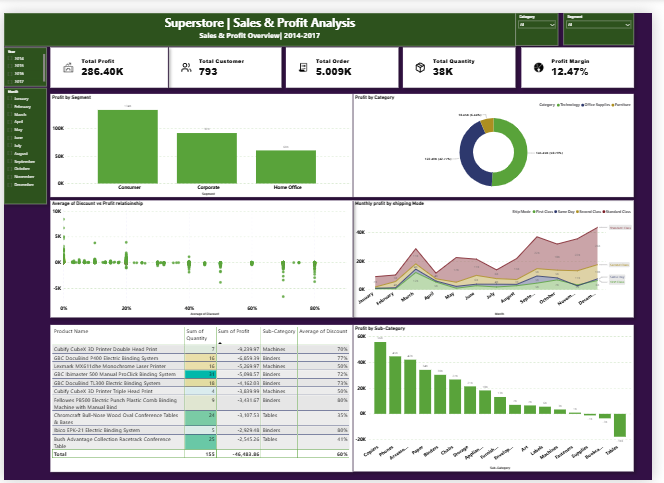

This screenshot's page, from the dashboard's own definition file:
{"tool":"powerbi","page":{"name":"Superstore Profitability Insights","canvas":[2400,1730],"ordinal":1},"visuals":[{"type":"textbox","box":[0,0,1895.3,123.3],"z":0},{"type":"slicer","fields":{"Values":["Sample - Superstore.Order Date.Variation.Date Hierarchy.Year"]},"box":[2.3,130.2,158.1,144.2],"z":1000},{"type":"slicer","fields":{"Values":["Sample - Superstore.Order Date.Variation.Date Hierarchy.Month"]},"box":[2.3,279.1,158.1,430.2],"z":2000},{"type":"columnChart","title":"Profit by Segment","fields":{"Category":["Sample - Superstore.Segment"],"Y":["Sum(Sample - Superstore.Profit)"]},"box":[170,297.7,1118.6,381.4],"z":3000},{"type":"slicer","fields":{"Values":["Sample - Superstore.Category"]},"box":[1895.3,2.3,158.1,120.9],"z":4000},{"type":"slicer","fields":{"Values":["Sample - Superstore.Segment"]},"box":[2072.1,2.3,260.5,118.6],"z":5000},{"type":"stackedAreaChart","title":"Monthly profit by shipping Mode","fields":{"Category":["Sample - Superstore.Order Date.Variation.Date Hierarchy.Month"],"Series":["Sample - Superstore.Ship Mode"],"Y":["Sum(Sample - Superstore.Profit)"]},"box":[1295.3,695.3,1037.2,432.6],"z":6000},{"type":"donutChart","title":"Profit by Category","fields":{"Category":["Sample - Superstore.Category"],"Y":["Sum(Sample - Superstore.Profit)"]},"box":[1295.3,297.7,1037.2,381.4],"z":7000},{"type":"tableEx","title":"Top 10 Product with Highest  Losses","fields":{"Values":["Sample - Superstore.Product Name","Sum(Sample - Superstore.Quantity)","Sample - Superstore.Profit","Sample - Superstore.Sub-Category","Avg(Sample - Superstore.Discount)"]},"box":[169.8,1153.5,1118.6,544.2],"z":8000},{"type":"cardVisual","fields":{"Data":["Count(Sample - Superstore.Customer ID)"]},"box":[611.6,130.2,416.3,148.8],"z":9000},{"type":"clusteredColumnChart","title":"Profit by Sub-Category","fields":{"Category":["Sample - Superstore.Sub-Category"],"Y":["Sum(Sample - Superstore.Profit)"]},"box":[1295.3,1153.5,1037.2,541.9],"z":10000},{"type":"scatterChart","title":"Average of Discount vs Profit relatioinship","fields":{"X":["Avg(Sample - Superstore.Discount)"],"Y":["Sum(Sample - Superstore.Profit)"],"Category":["Sample - Superstore.Profit"]},"box":[169.8,695.3,1118.6,432.6],"z":11000},{"type":"cardVisual","fields":{"Data":["Sample - Superstore.Profit Margin"]},"box":[1916.3,130.2,416.3,148.8],"z":12000},{"type":"cardVisual","fields":{"Data":["Sum(Sample - Superstore.Quantity)"]},"box":[1479.1,130.2,416.3,148.8],"z":13000},{"type":"cardVisual","fields":{"Data":["Count(Sample - Superstore.Order ID)"]},"box":[1044.2,130.2,416.3,148.8],"z":14000},{"type":"cardVisual","fields":{"Data":["Sum(Sample - Superstore.Profit)"]},"box":[170,130.2,434.9,148.8],"z":15000}]}

Visuals, with their boxes on the page's 2400x1730 design canvas (x1, y1, x2, y2). These are canvas units, not pixel positions in the 664x483 screenshot, which may show the page scaled, cropped or inside an application window:
textbox: detection(0, 0, 1895, 123)
slicer - Sample - Superstore.Order Date.Variation.Date Hierarchy.Year: detection(2, 130, 160, 274)
slicer - Sample - Superstore.Order Date.Variation.Date Hierarchy.Month: detection(2, 279, 160, 709)
"Profit by Segment" columnChart: detection(170, 298, 1289, 679)
slicer - Sample - Superstore.Category: detection(1895, 2, 2053, 123)
slicer - Sample - Superstore.Segment: detection(2072, 2, 2333, 121)
"Monthly profit by shipping Mode" stackedAreaChart: detection(1295, 695, 2332, 1128)
"Profit by Category" donutChart: detection(1295, 298, 2332, 679)
"Top 10 Product with Highest  Losses" tableEx: detection(170, 1154, 1288, 1698)
cardVisual - Count(Sample - Superstore.Customer ID): detection(612, 130, 1028, 279)
"Profit by Sub-Category" clusteredColumnChart: detection(1295, 1154, 2332, 1695)
"Average of Discount vs Profit relatioinship" scatterChart: detection(170, 695, 1288, 1128)
cardVisual - Sample - Superstore.Profit Margin: detection(1916, 130, 2333, 279)
cardVisual - Sum(Sample - Superstore.Quantity): detection(1479, 130, 1895, 279)
cardVisual - Count(Sample - Superstore.Order ID): detection(1044, 130, 1460, 279)
cardVisual - Sum(Sample - Superstore.Profit): detection(170, 130, 605, 279)
